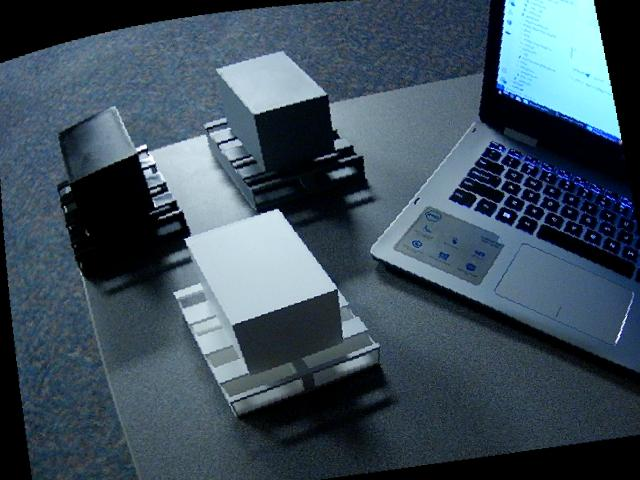black pallet: (52, 101, 193, 285)
grey pallet: (197, 47, 370, 215)
white pallet: (169, 207, 386, 423)
